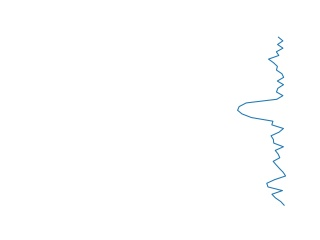interdistributaryEstuary: (233, 36, 293, 206)
